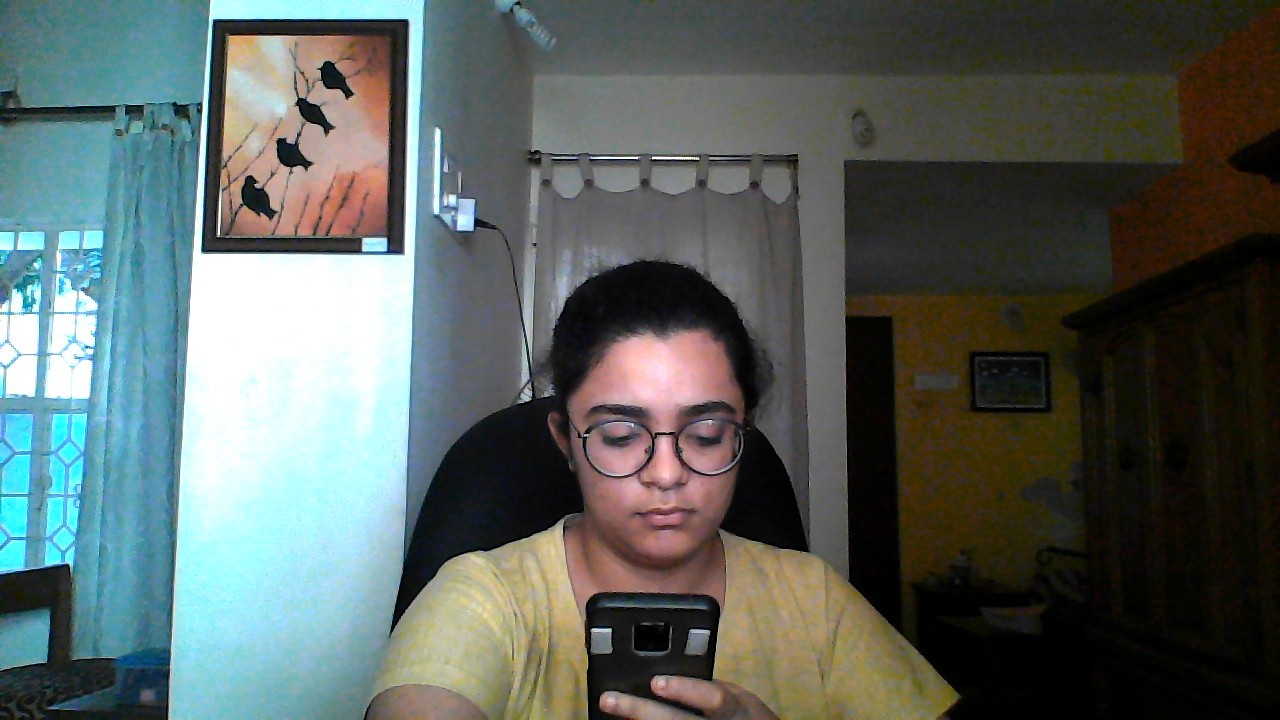mobile phone: (574, 595, 779, 720)
person: (527, 241, 845, 587)
